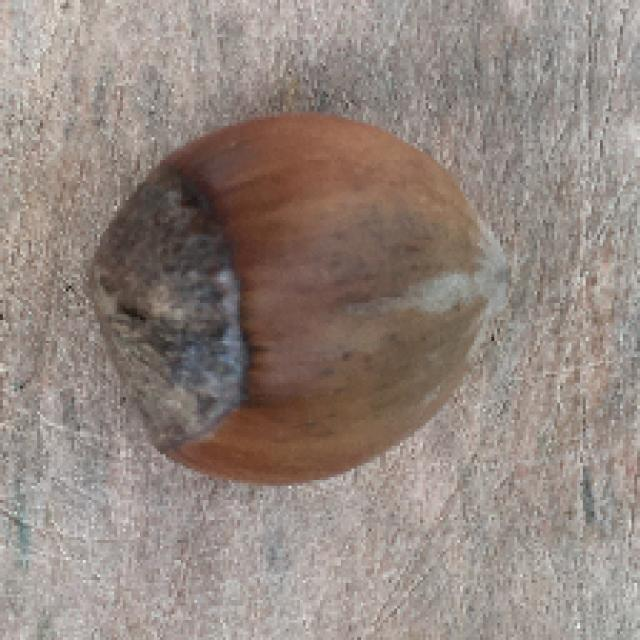damagedHazelnut: (79, 109, 513, 492)
